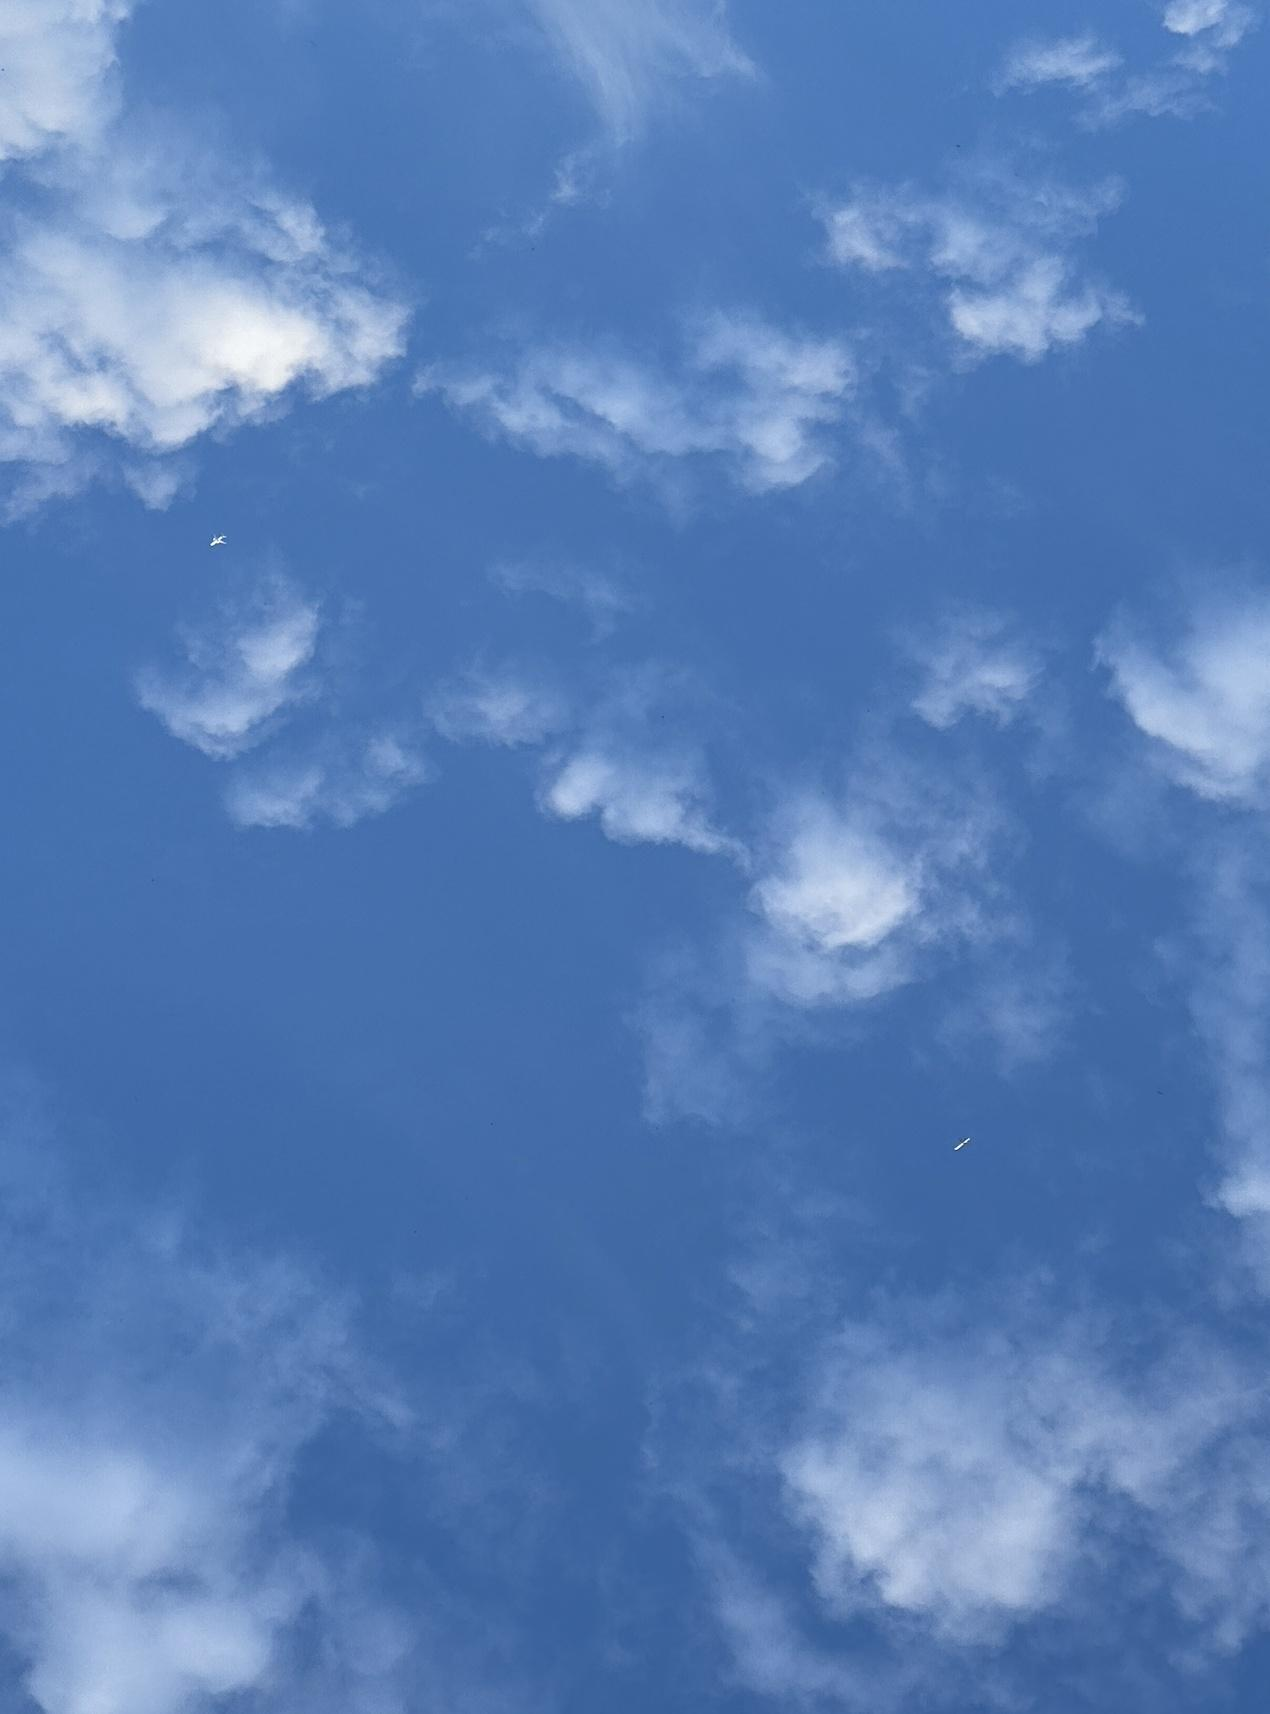Plane: (197, 519, 244, 567), (943, 1123, 990, 1167)
